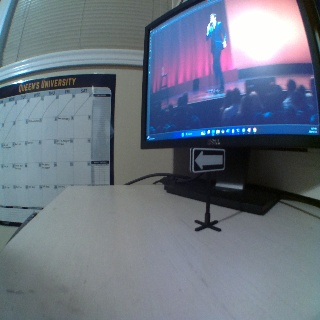sign_oneway_left: (190, 146, 225, 172)
